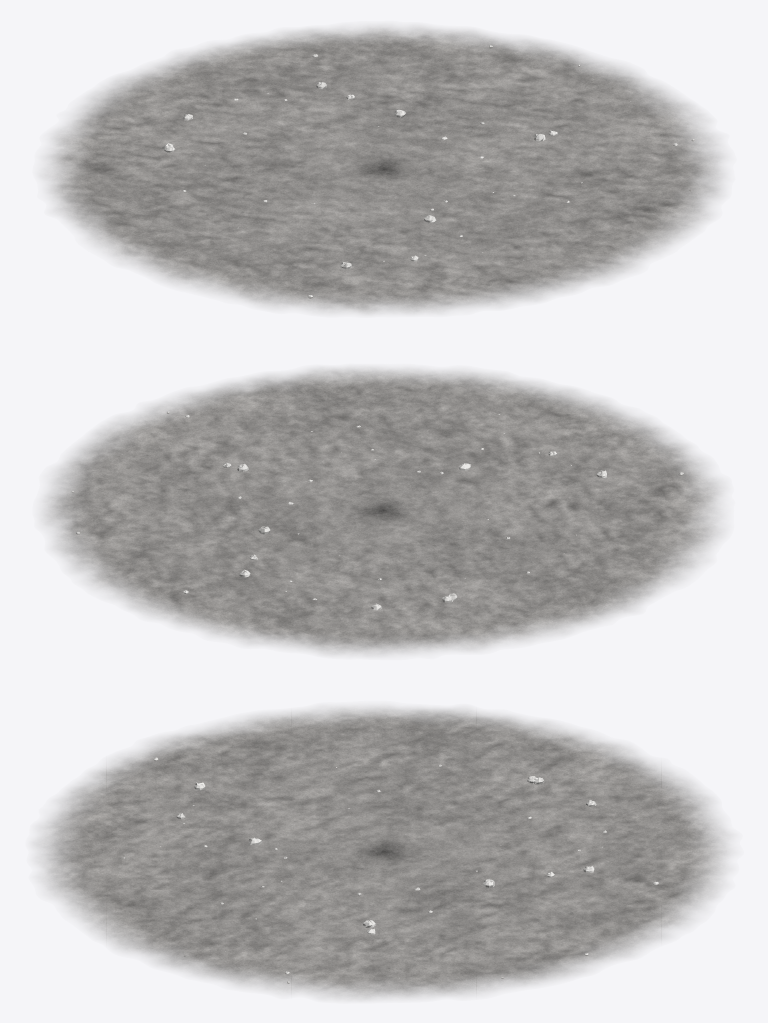
File: regolith.glb
The picture shows the model from 3 angles, top to bottom: view 1: azimuth 30°, elevation 25°; view 2: azimuth 150°, elevation 25°; view 3: azimuth 270°, elevation 25°; orthographic projection.
Visible parts, largest first — view 1: regolith; view 2: regolith; view 3: regolith.
Boxes of the visible parts, left/top/right/bottom form: regolith: left=40, top=25, right=725, bottom=314; regolith: left=41, top=367, right=724, bottom=655; regolith: left=33, top=705, right=732, bottom=1000.
Size of the model in its own units: 6 by 0.0797 by 6.
2 materials, 1 textured.
